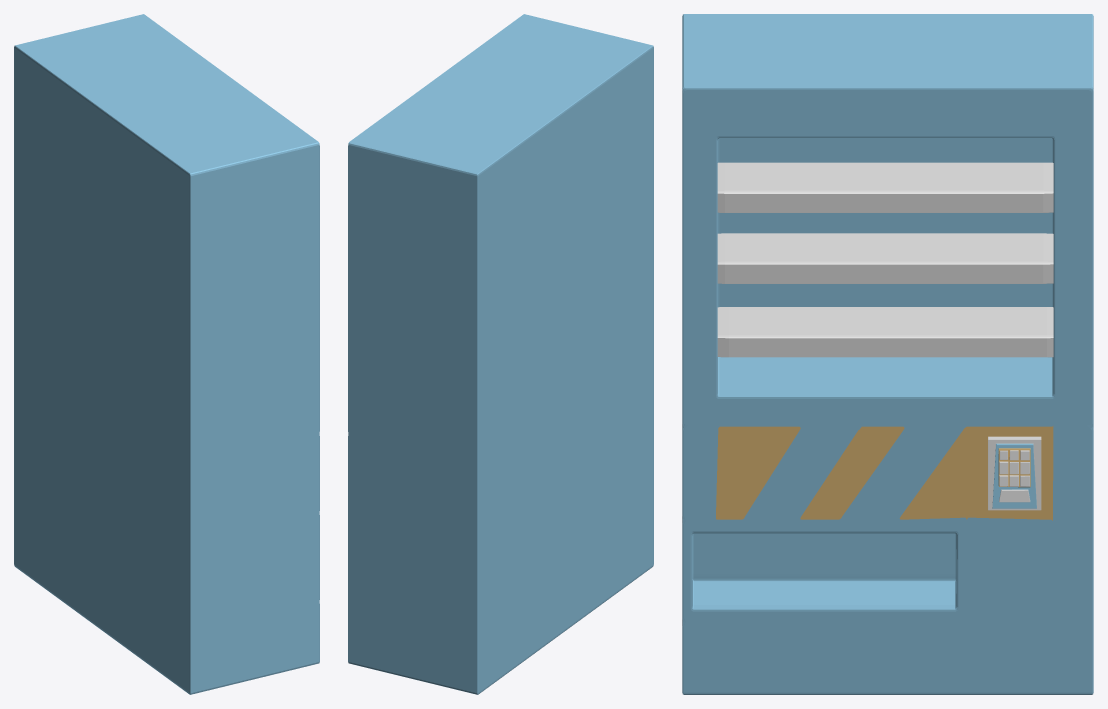
Rendered from vending.fbx.
3 views of the same model, side by side, from view 1: azimuth 30°, elevation 25°; view 2: azimuth 150°, elevation 25°; view 3: azimuth 270°, elevation 25° (orthographic). The views are drawn at different scales.
Parts seen in each view (by area): view 1: Cube; view 2: Cube; view 3: Cube, Cube.002, Cube.003, Cube.001, Cube.005.
Boxes of the visible parts, left/top/right/bottom form: Cube: left=14, top=14, right=319, bottom=694; Cube: left=348, top=14, right=653, bottom=694; Cube: left=682, top=14, right=1093, bottom=694; Cube.002: left=717, top=233, right=1053, bottom=283; Cube.003: left=717, top=162, right=1053, bottom=212; Cube.001: left=717, top=307, right=1053, bottom=357; Cube.005: left=988, top=436, right=1041, bottom=510.
Size of the model in its own units: 397 by 1354 by 831.
